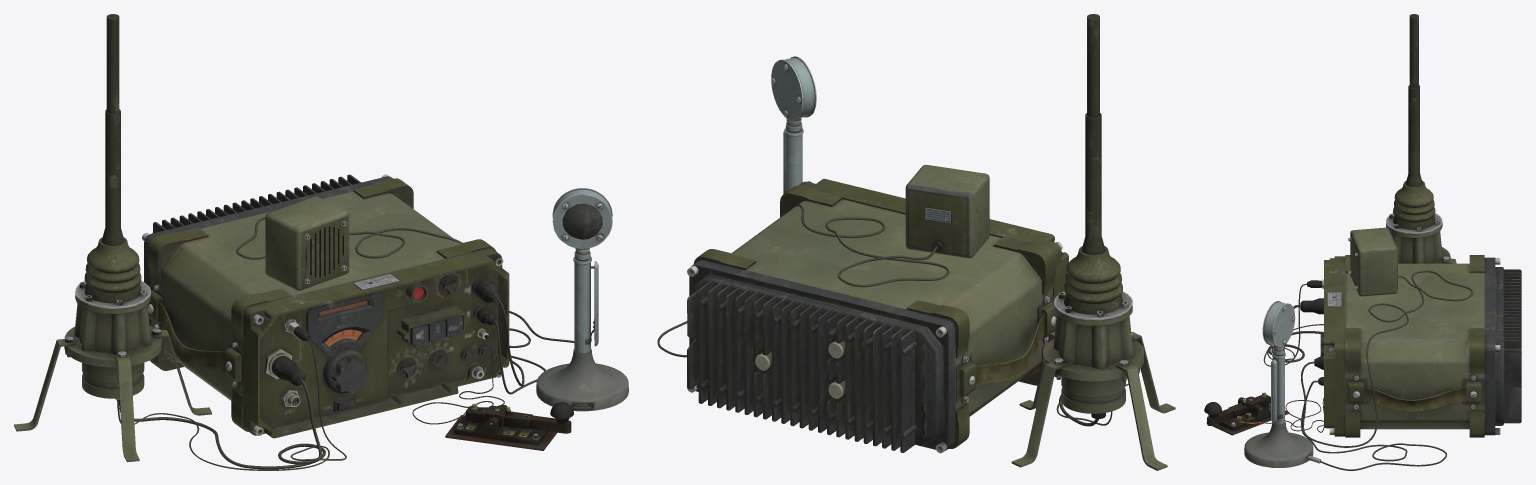
The model's file is vintage_radio_transceiver.glb.
3 renders of one model, left to right at view 1: azimuth 30°, elevation 25°; view 2: azimuth 150°, elevation 25°; view 3: azimuth 270°, elevation 25°, orthographic. The views are drawn at different scales.
Parts seen in each view (by area): view 1: vintage_radio_transceiver, vintage_radio_transceiver_cable; view 2: vintage_radio_transceiver, vintage_radio_transceiver_cable; view 3: vintage_radio_transceiver, vintage_radio_transceiver_cable.
Boxes of the visible parts, x1,y1,x2,y2 form: vintage_radio_transceiver: [142, 174, 509, 438]; vintage_radio_transceiver_cable: [14, 14, 628, 470]; vintage_radio_transceiver: [687, 178, 1068, 453]; vintage_radio_transceiver_cable: [657, 14, 1175, 470]; vintage_radio_transceiver: [1320, 255, 1521, 437]; vintage_radio_transceiver_cable: [1204, 14, 1473, 470].
Size of the model in its own units: 0.574 by 0.4344 by 0.4131.
2 materials, 2 textured.
